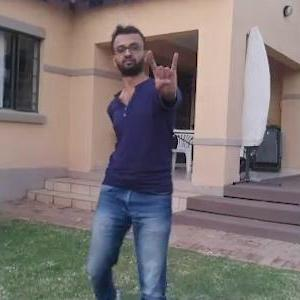takeoff-hand: (146, 46, 186, 103)
